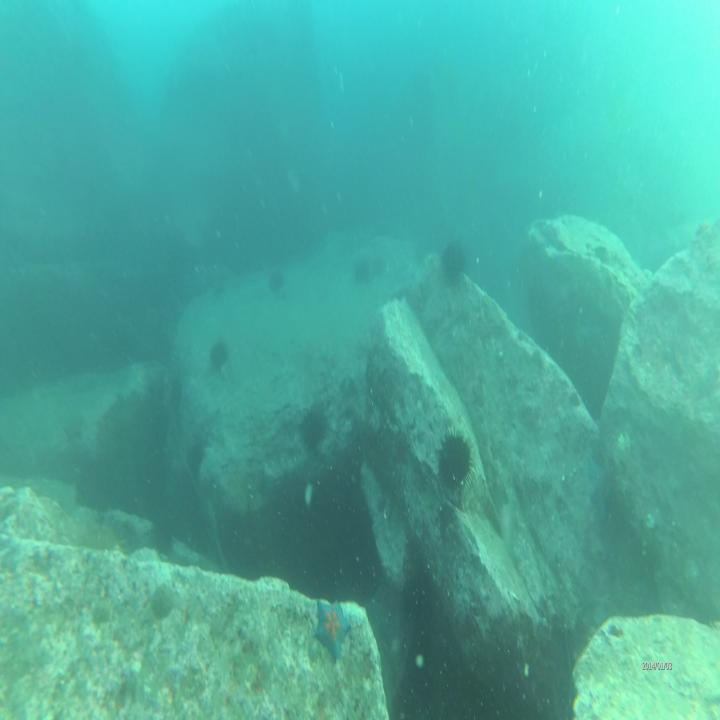echinus: (434, 424, 478, 510), (295, 403, 329, 455), (440, 238, 469, 288)
starfish: (313, 592, 353, 666)
